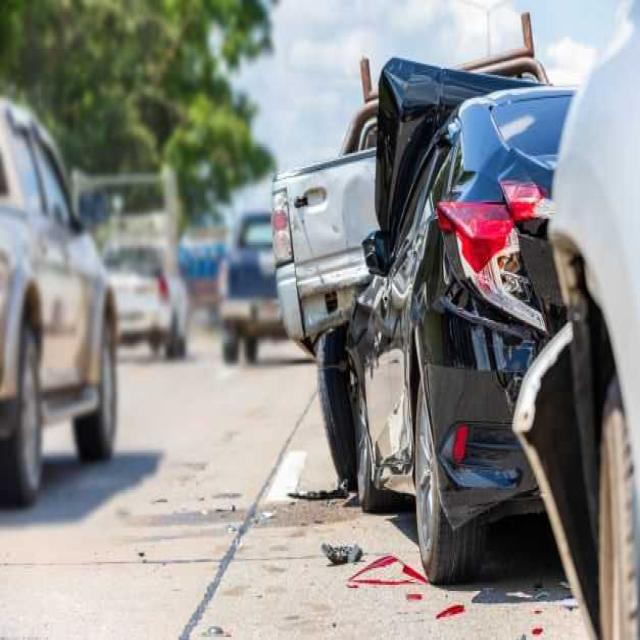Accident: (268, 7, 640, 640)
